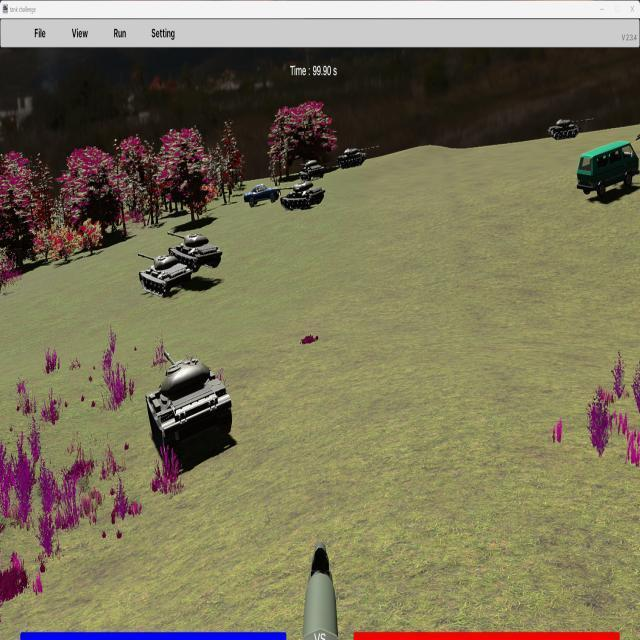Tank: (145, 350, 232, 456), (137, 252, 191, 298), (167, 231, 222, 271), (275, 181, 326, 210), (548, 117, 594, 140), (337, 146, 379, 168), (299, 160, 324, 180)
car: (576, 141, 640, 197), (244, 184, 280, 207)
